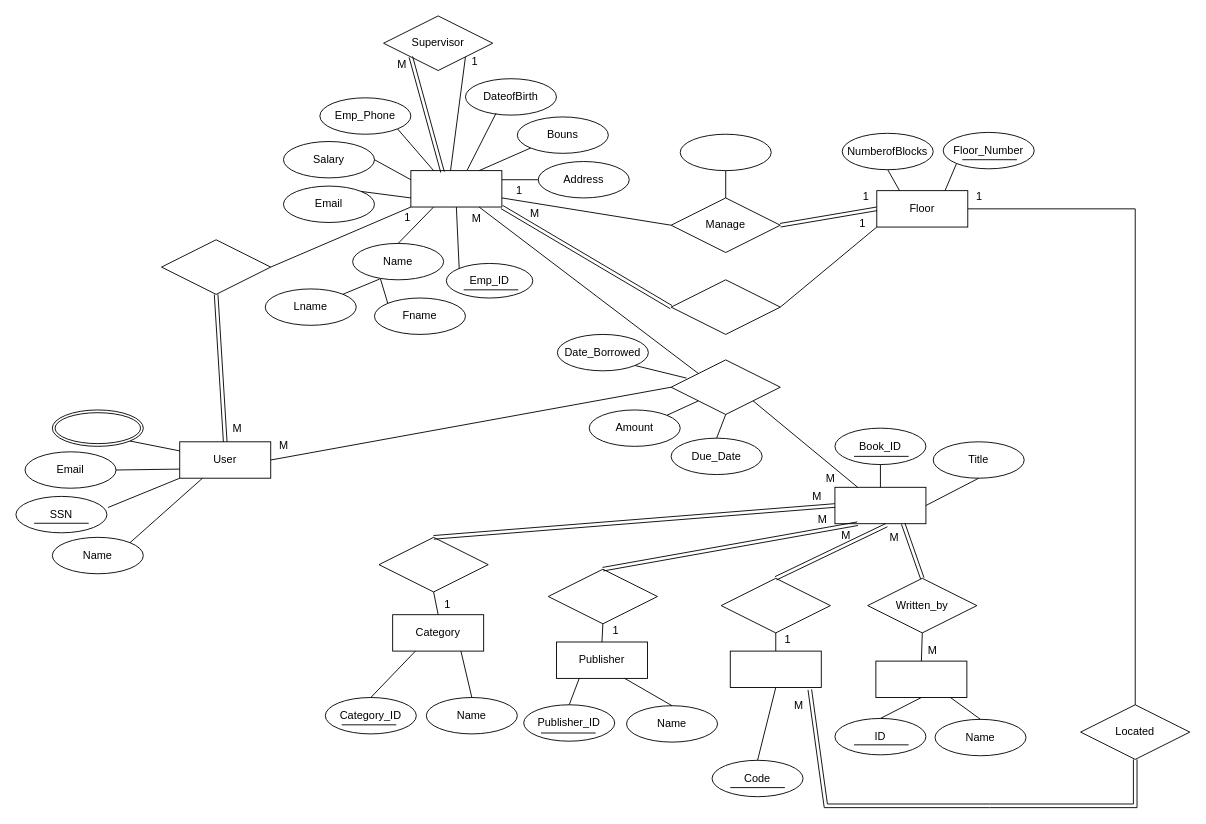
The diagram is 1206 pixels wide and 824 high, and some of its shapes have lost their labels. The centre of each missing label's shape, as x and y in pixels:
Author: the point at 921,679
Book: the point at 880,505
Borrow: the point at 725,387
Classified_to: the point at 433,564
Employee: the point at 456,188
Hirirng_Date: the point at 725,152
Phones: the point at 97,427
Published_by: the point at 602,596
Record: the point at 216,266
Shelf: the point at 775,669
Stored_in: the point at 775,605
Works_On: the point at 725,306
